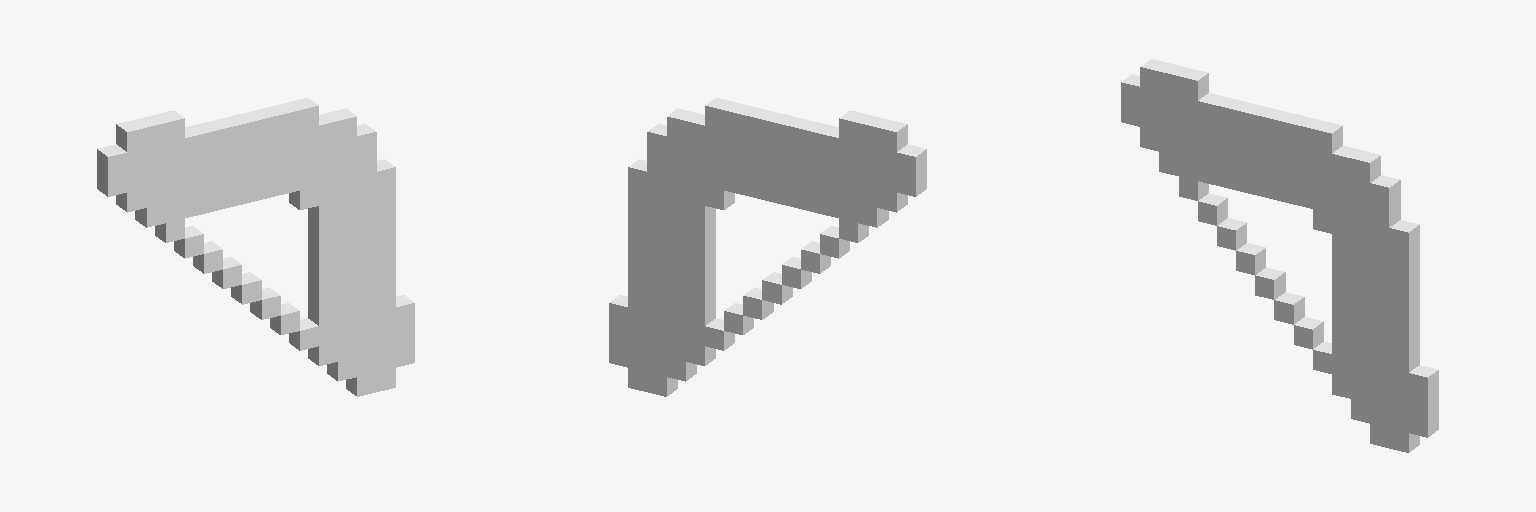
Rendered from bow2.obj.
3 renders of one model, left to right at view 1: azimuth 30°, elevation 25°; view 2: azimuth 150°, elevation 25°; view 3: azimuth 330°, elevation 25°, orthographic.
Bounding box in the file's own units: 16 × 16 × 1.